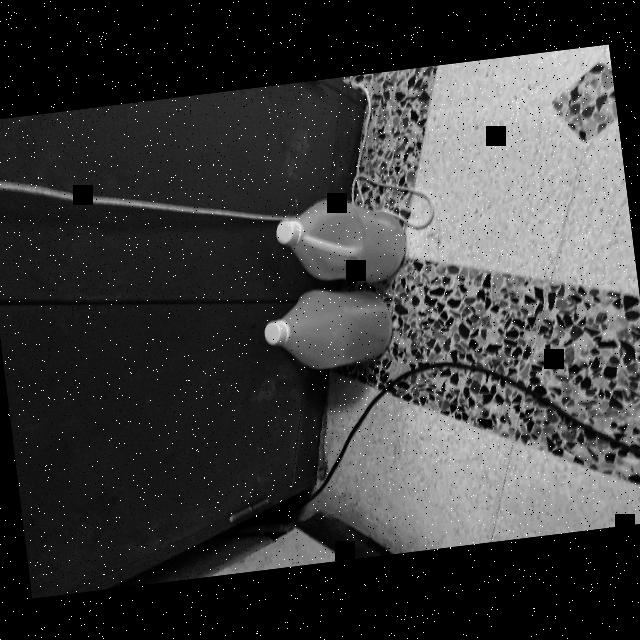chemical_plastic_gallon: (268, 183, 412, 293), (255, 277, 398, 378)
